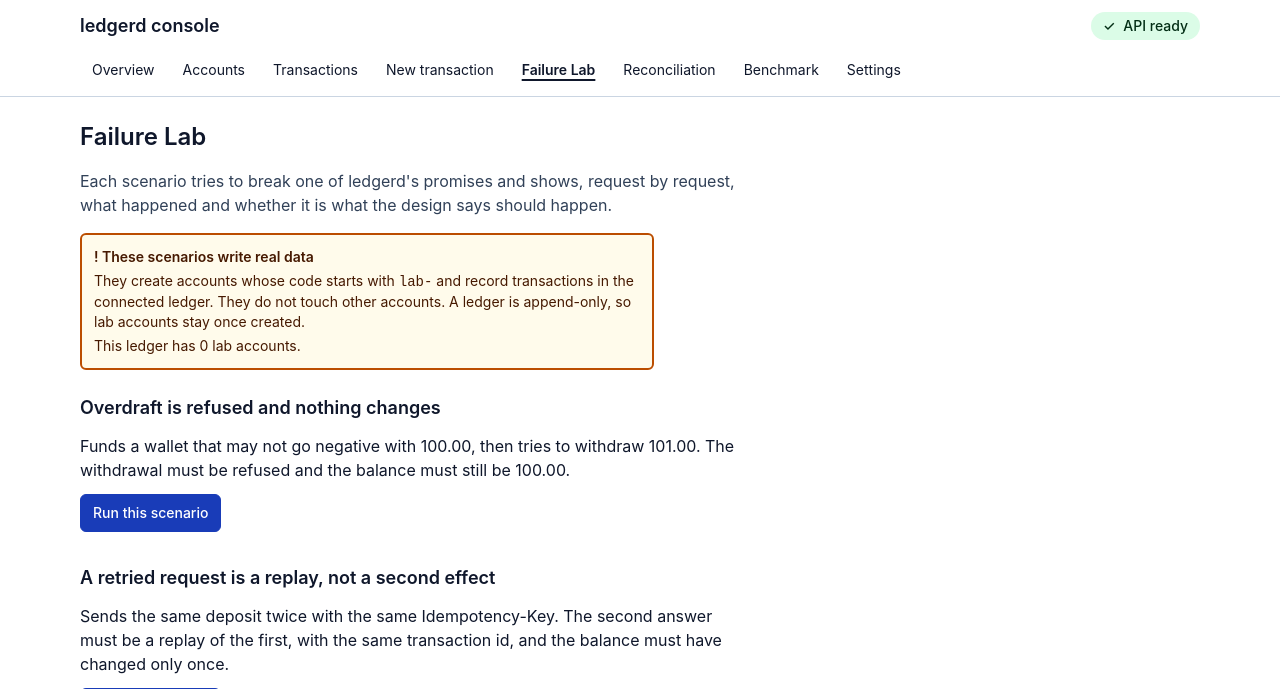
it: running a scenario (R9.2 to R9.4) › says it could not run, and why, when ledgerd cannot be reached, and never claims success
This screenshot has width=1280, height=689.
Expected: the heading "Failure Lab" is shown, [80,121,206,153]
Step 1. Click the button "Run this scenario" below "Overdraft is refused and nothing changes" → (151,513), box [80,494,221,532]
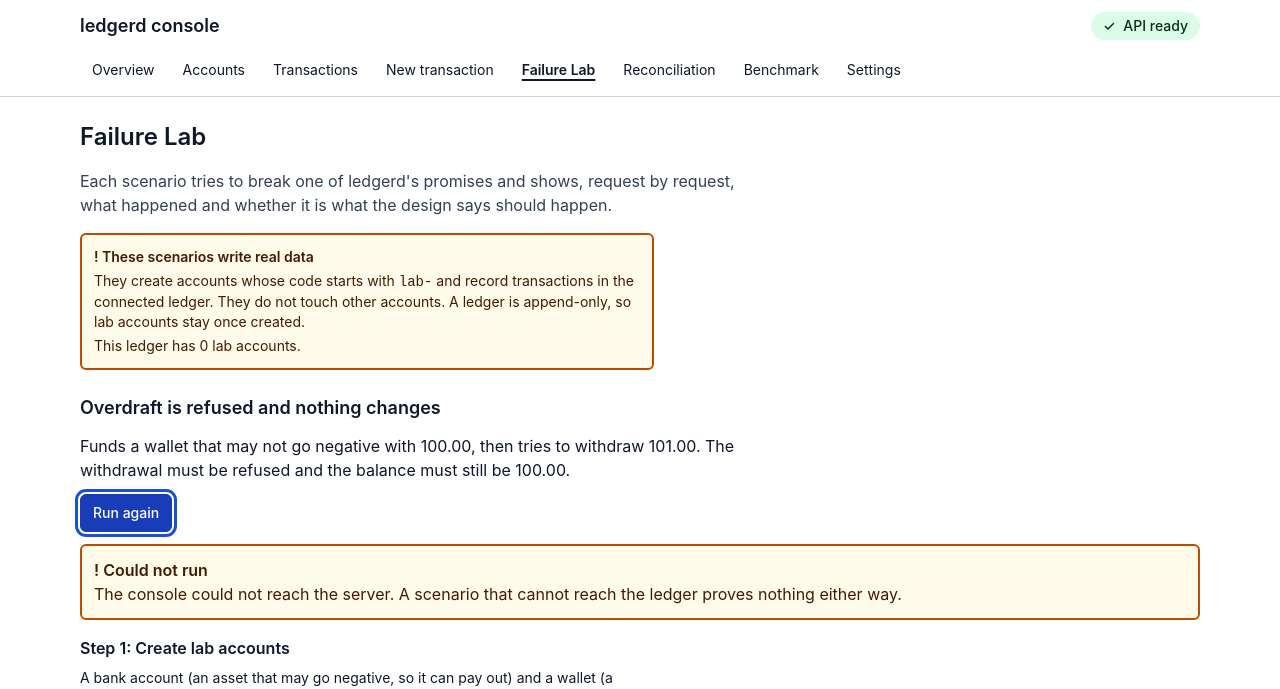
Expected: the text "! Could not run" is shown, [94,560,208,580]
Expected: the message shows "Could not run", [103,560,208,580]
Expected: the message shows "A scenario that cannot reach the ledger proves nothing either way", [394,584,902,604]
